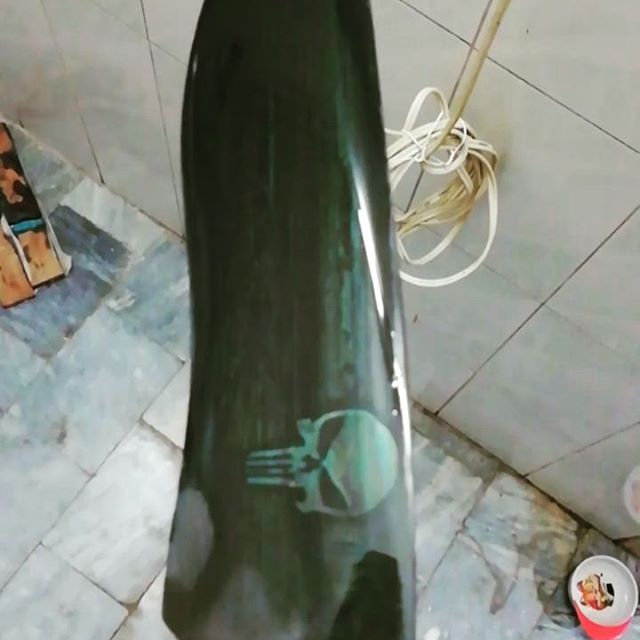knife: (162, 1, 418, 639)
